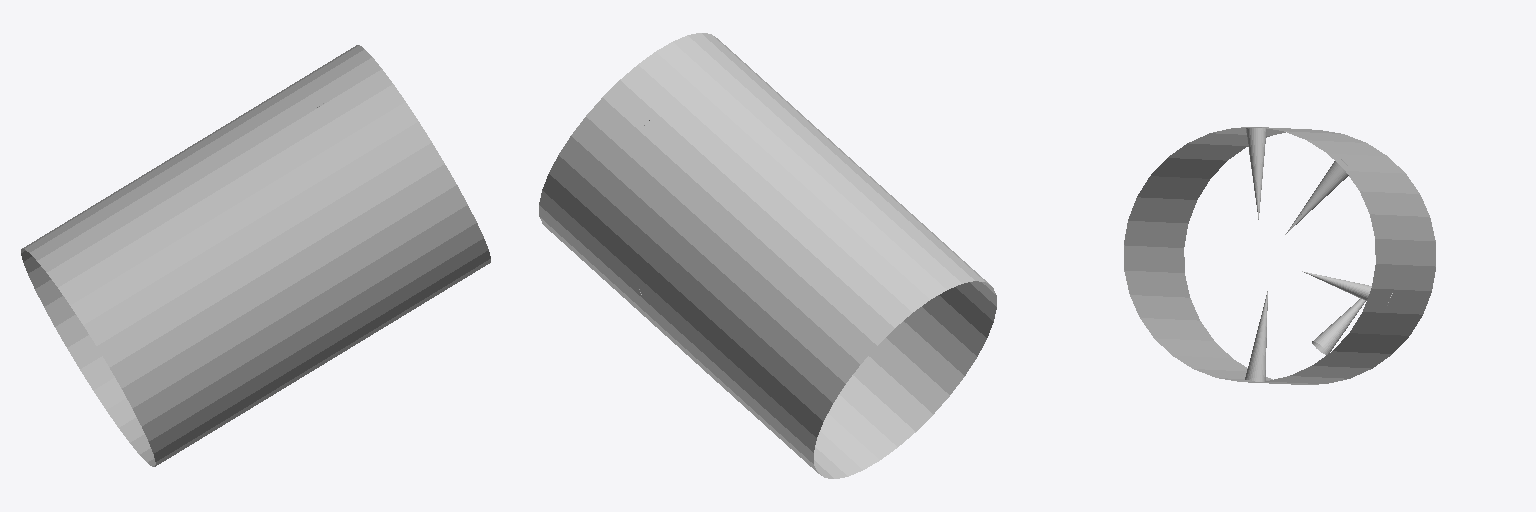
The model's file is rotatorFix.obj.
3 renders of one model, left to right at view 1: azimuth 30°, elevation 25°; view 2: azimuth 150°, elevation 25°; view 3: azimuth 270°, elevation 25°, orthographic.
Visible parts, largest first — view 1: Cylinder; view 2: Cylinder; view 3: Cylinder.
Boxes of the visible parts, <box> form: Cylinder: <box>21,45,490,466</box>; Cylinder: <box>539,33,996,478</box>; Cylinder: <box>1124,127,1435,384</box>.
Size of the model in its own units: 12.84 by 10.93 by 8.57.